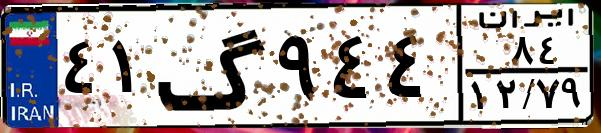1: (110, 28, 156, 98), (470, 70, 495, 125)
2: (495, 70, 520, 125)
4: (385, 28, 445, 110), (330, 28, 385, 110), (57, 26, 110, 100), (537, 27, 568, 80)
7: (535, 70, 560, 125)
8: (508, 27, 537, 80)
9: (270, 28, 330, 110), (560, 70, 590, 125)
گ: (156, 12, 270, 120)
